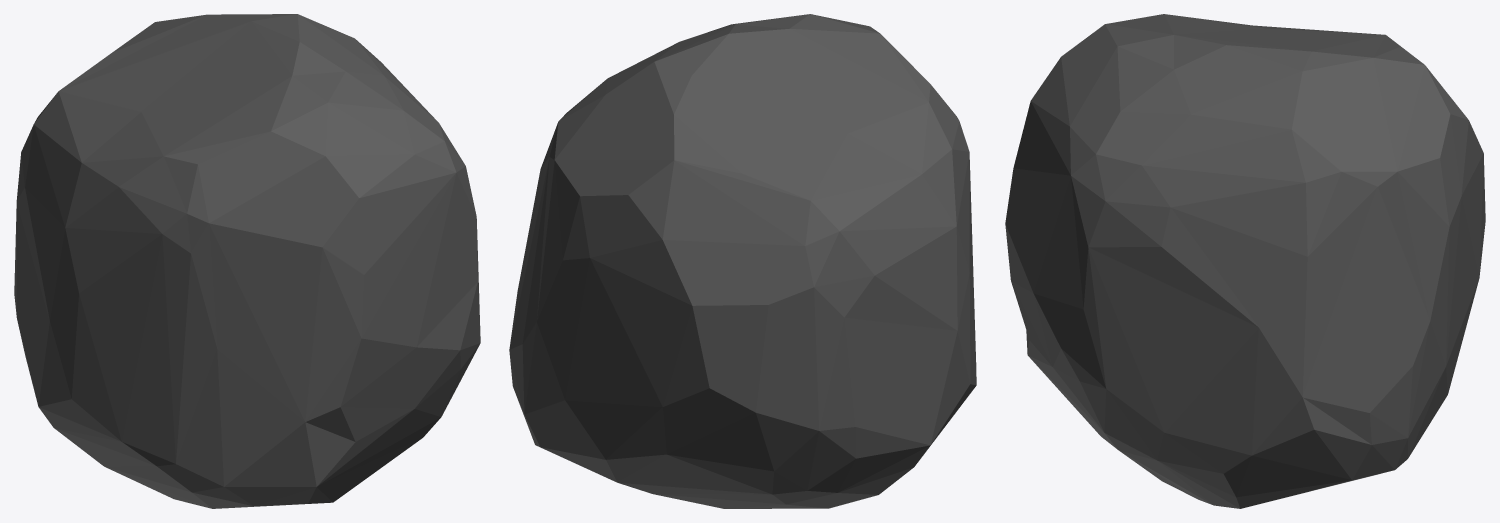
The model's file is Rock1.fbx.
3 renders of one model, left to right at view 1: azimuth 30°, elevation 25°; view 2: azimuth 150°, elevation 25°; view 3: azimuth 270°, elevation 25°, orthographic.
Visible parts, largest first — view 1: kő.001; view 2: kő.001; view 3: kő.001.
Part boxes in pixels (<box>): kő.001: <box>14,14,480,508</box>; kő.001: <box>509,14,976,508</box>; kő.001: <box>1005,14,1485,508</box>.
Size of the model in its own units: 5.28 by 5.49 by 5.37.
1 material, 1 textured.
